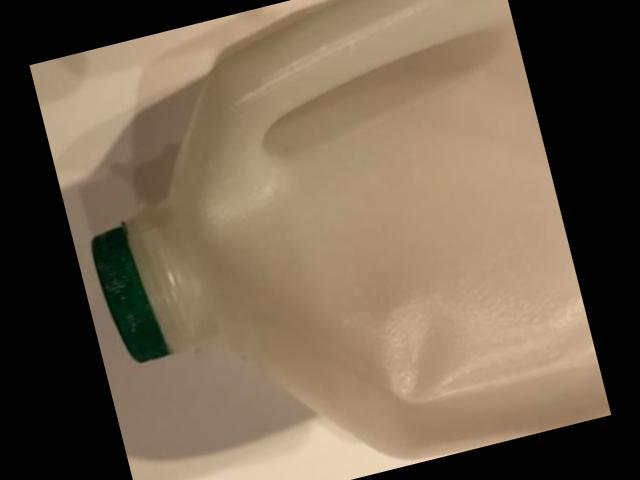plastic: (94, 0, 611, 459)
